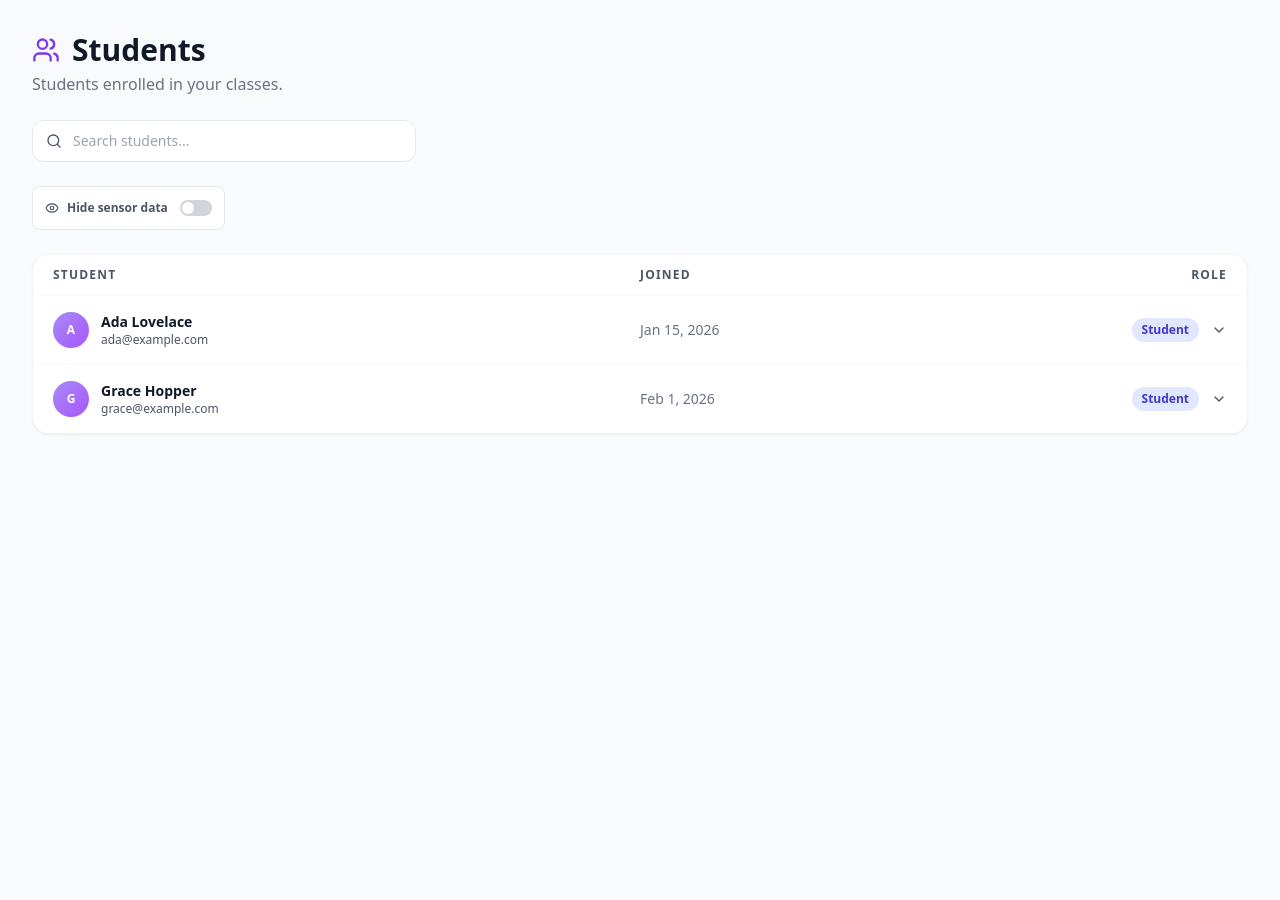
Scenario: signal averages › reports no sensor rather than a confident zero when the aggregate has none
Step 1. Click the button "A Ada Lovelace ada@example.com Jan 15, 2026 Student" → {"x": 640, "y": 330}, box top-left (33, 296), bottom-right (1247, 364)
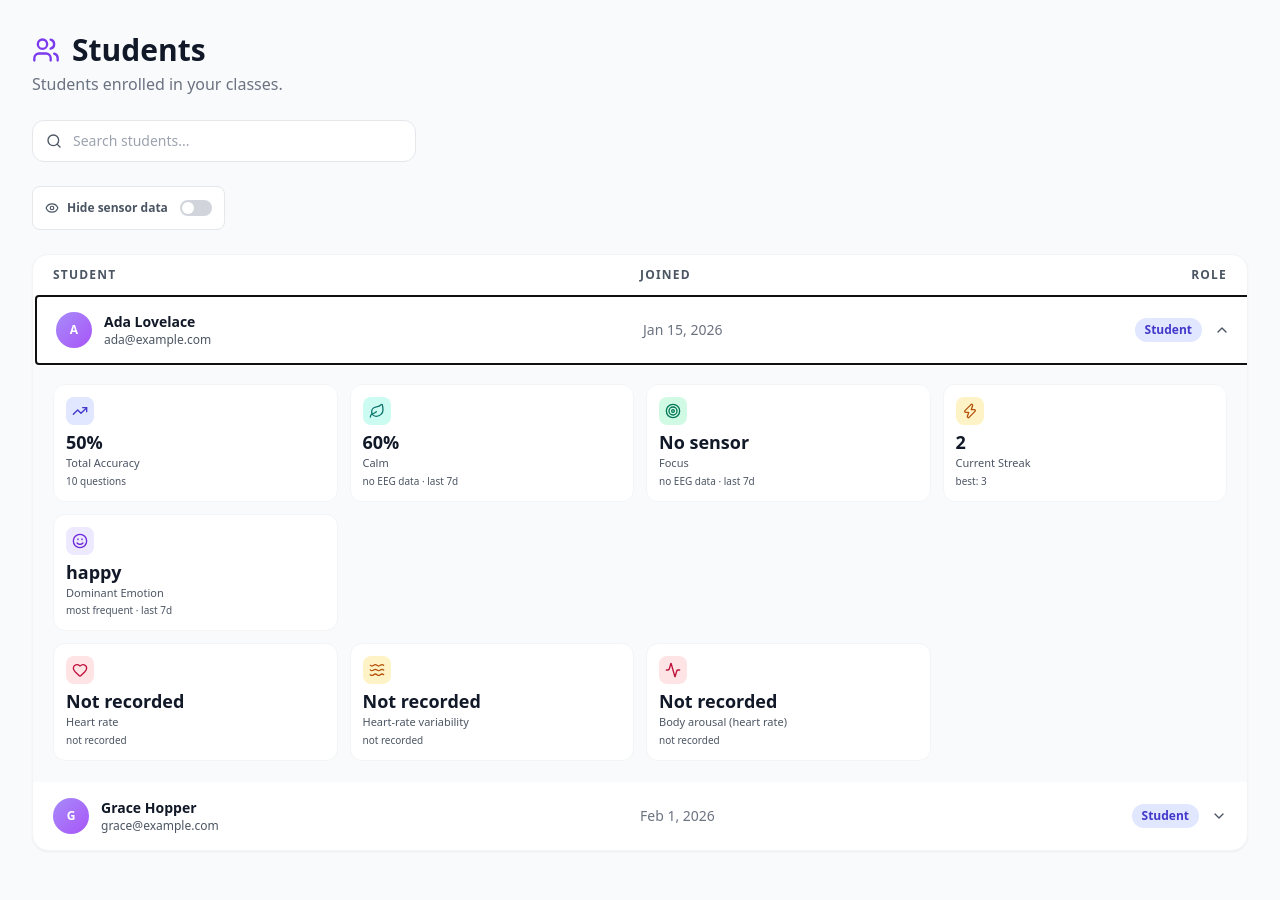
Check: the text "No sensor" is shown, box top-left (659, 430), bottom-right (749, 454)
